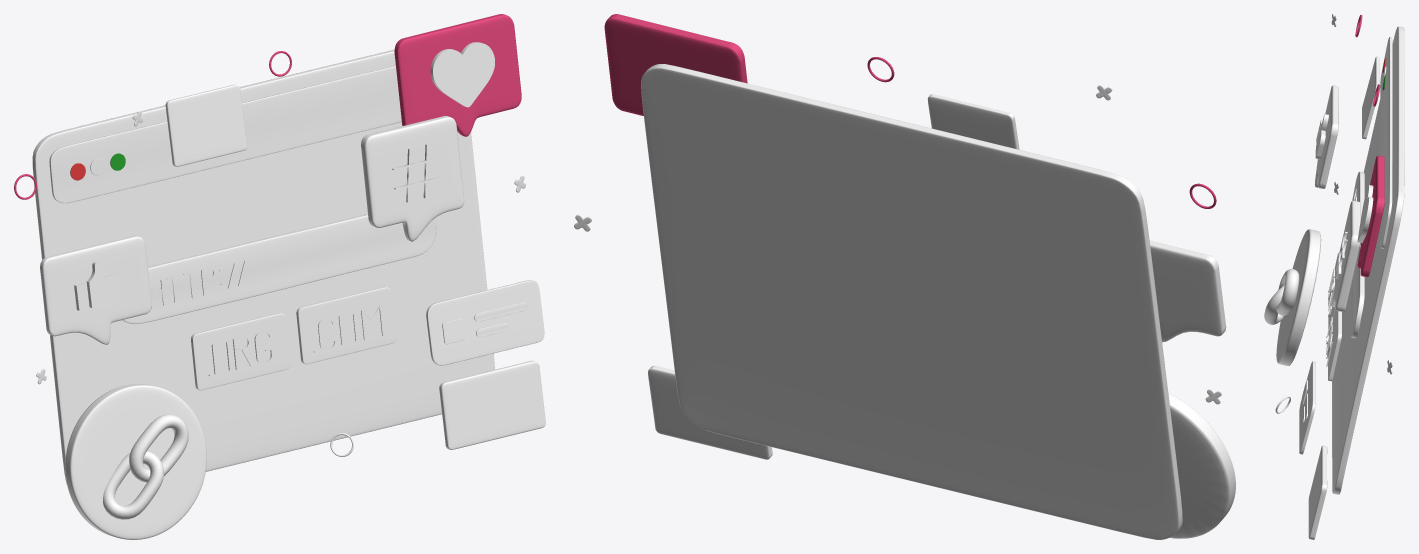
The model's file is off-page-seo-3d-animated-icon-605292557269.glb.
3 views of the same model, side by side, from view 1: azimuth 30°, elevation 25°; view 2: azimuth 150°, elevation 25°; view 3: azimuth 270°, elevation 25° (orthographic). The views are drawn at different scales.
Parts seen in each view (by area): view 1: Cube.008, Cube.001, Search Bar, Chain Base, Hastag Bubble Chat, Love Bubble Chat, Like Bubble Chat, Cube.019, Frame 1, Com Frame, Org Frame, Cube.020 (+5 smaller); view 2: Cube.008, Love Bubble Chat, Chain Base, Like Bubble Chat, Cube.019, Cube.020; view 3: Cube.008, Chain Base, Cube.001, Hastag Bubble Chat, Love Bubble Chat, Like Bubble Chat, Search Bar, Cube.019, Frame 1, Cube.020, Chain Base.002, Com Frame (+4 smaller).
Part boxes in pixels (x1,y1,x2,y2): Cube.008: (32,49,494,485); Cube.001: (49,65,401,203); Search Bar: (122,214,436,323); Chain Base: (65,384,206,539); Hastag Bubble Chat: (361,116,464,241); Love Bubble Chat: (394,14,521,136); Like Bubble Chat: (40,235,151,344); Cube.019: (439,360,545,449); Frame 1: (426,280,544,365); Com Frame: (296,287,395,364); Org Frame: (191,313,290,390); Cube.020: (165,84,247,166); Cube.008: (641,64,1182,539); Love Bubble Chat: (604,14,747,115); Chain Base: (1168,393,1235,538); Like Bubble Chat: (1149,240,1226,342); Cube.019: (648,365,772,459); Cube.020: (927,94,1019,149); Cube.008: (1332,26,1404,494); Chain Base: (1276,229,1321,365); Cube.001: (1380,37,1392,248); Hastag Bubble Chat: (1332,200,1360,311); Love Bubble Chat: (1357,155,1384,277); Like Bubble Chat: (1315,85,1338,188); Search Bar: (1350,171,1364,338); Cube.019: (1308,445,1327,539); Frame 1: (1299,361,1315,454); Cube.020: (1362,56,1379,139); Chain Base.002: (1276,269,1299,315); Com Frame: (1328,309,1341,381).
Bounding box in the file's own units: 6.3 × 4.58 × 1.63.
